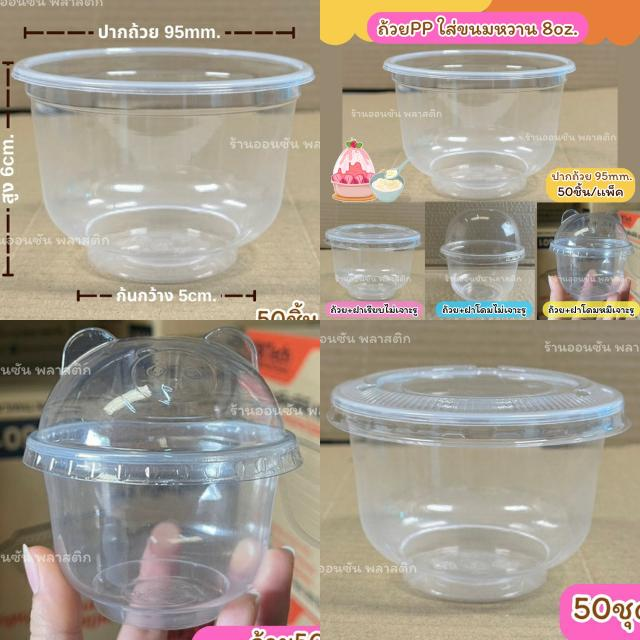Single-Use-Plastic: (24, 329, 302, 629), (328, 365, 630, 602), (12, 48, 314, 282), (384, 50, 575, 199), (440, 209, 525, 301), (550, 210, 634, 301), (325, 224, 421, 301)
